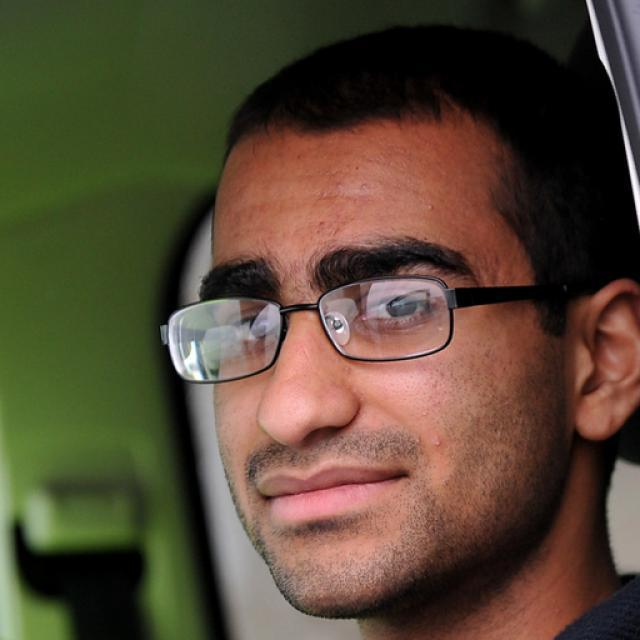happy: (203, 110, 576, 613)
